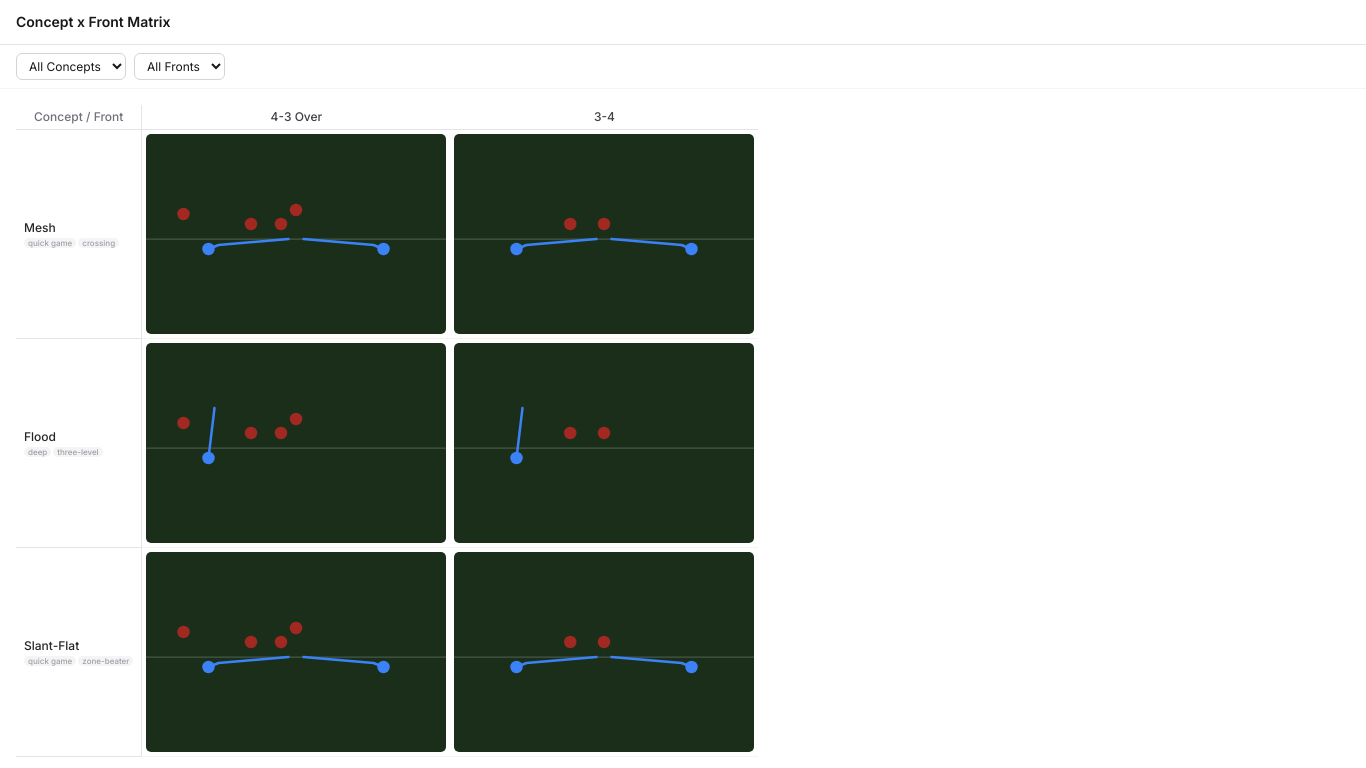
Test: ConceptFrontMatrix › filters concepts by crossing tag
The image size is (1366, 768).
Select "crossing" in the dropdown with test id "concept-tag-filter" at (71, 66), box [16, 53, 126, 80]
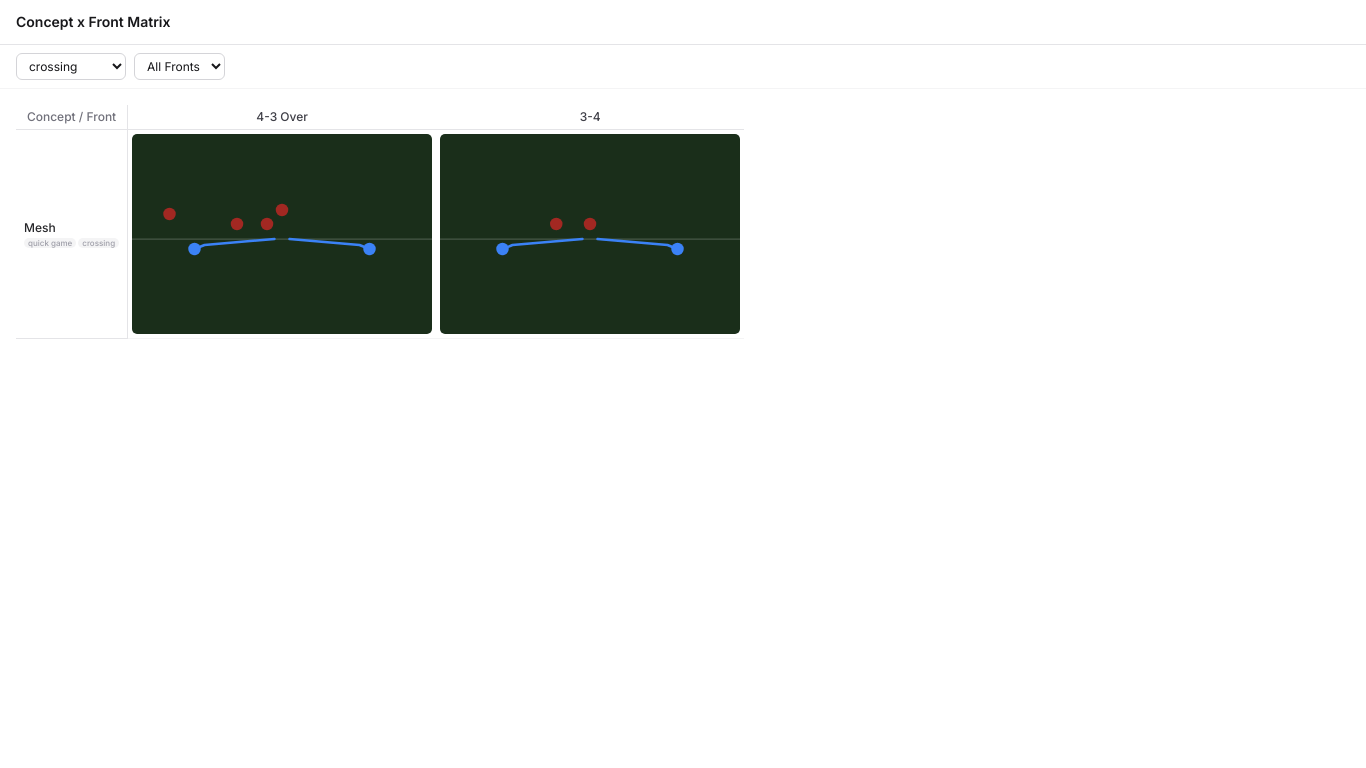
Check: the row with test id "concept-row-concept-mesh" is shown, box [16, 130, 744, 338]
Check: the row with test id "concept-row-concept-flood" is gone
